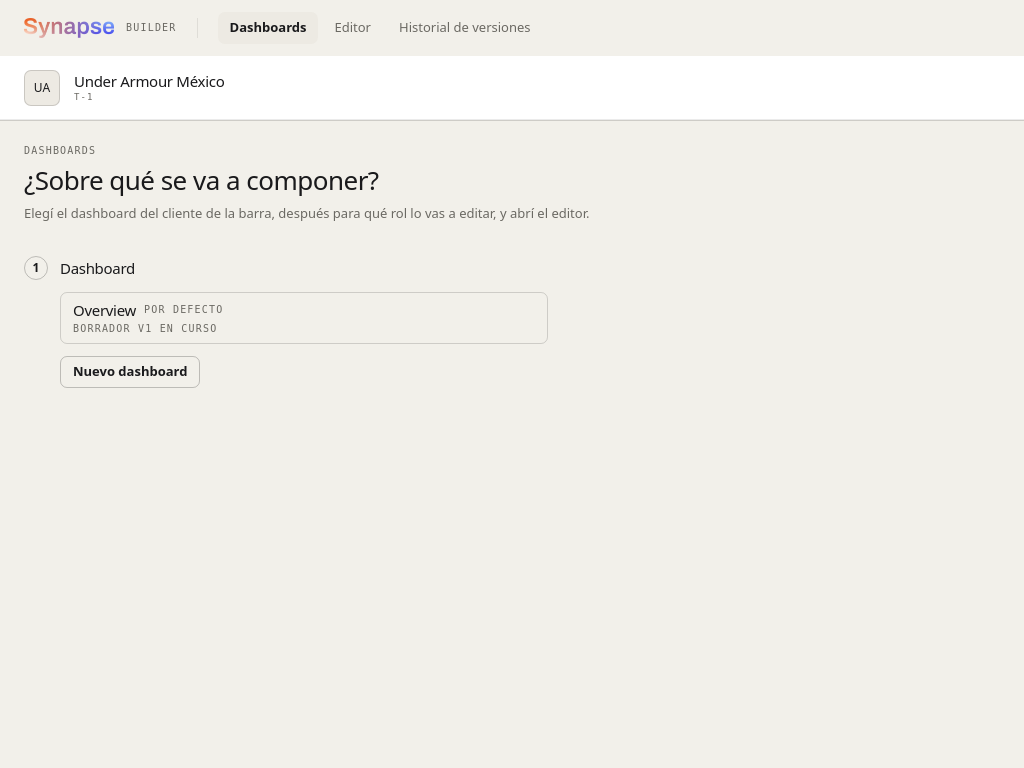
it: el chrome NO es uniforme · corregido contra el `.pen` › el rol elegido en B1 viaja a la cabecera del editor
Click the button "Overview Por defecto Borrador v1 en curso" at x=105, y=310, box [60,292,548,344]
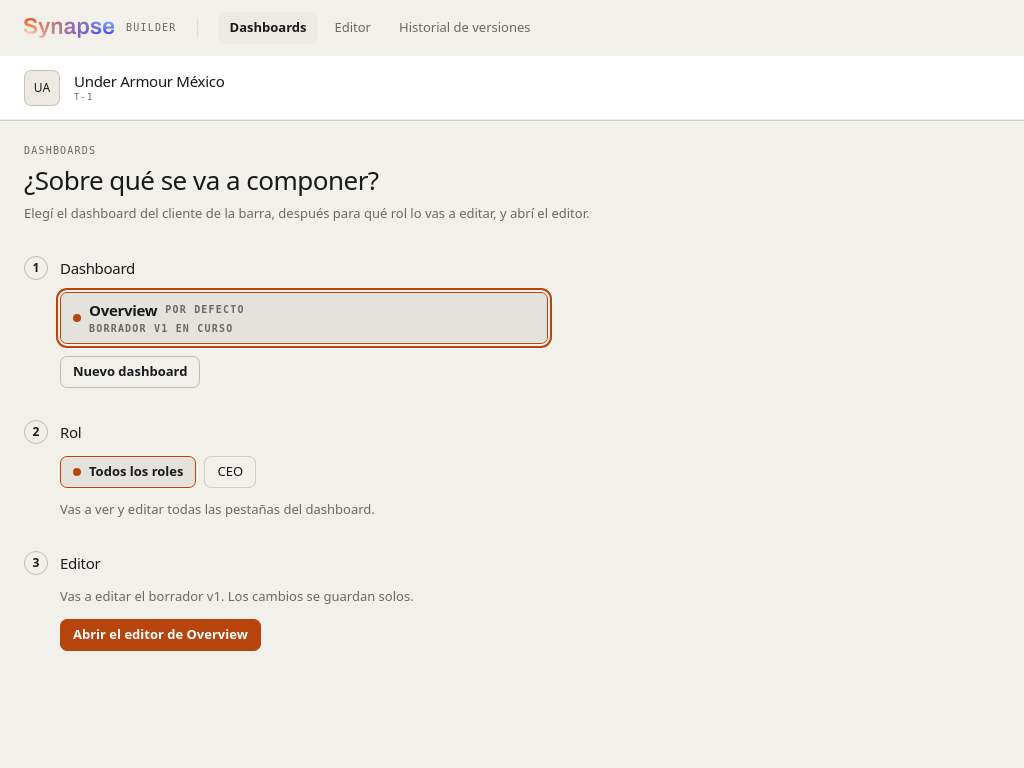
Click the button "CEO" at x=230, y=472, box [204,456,256,488]
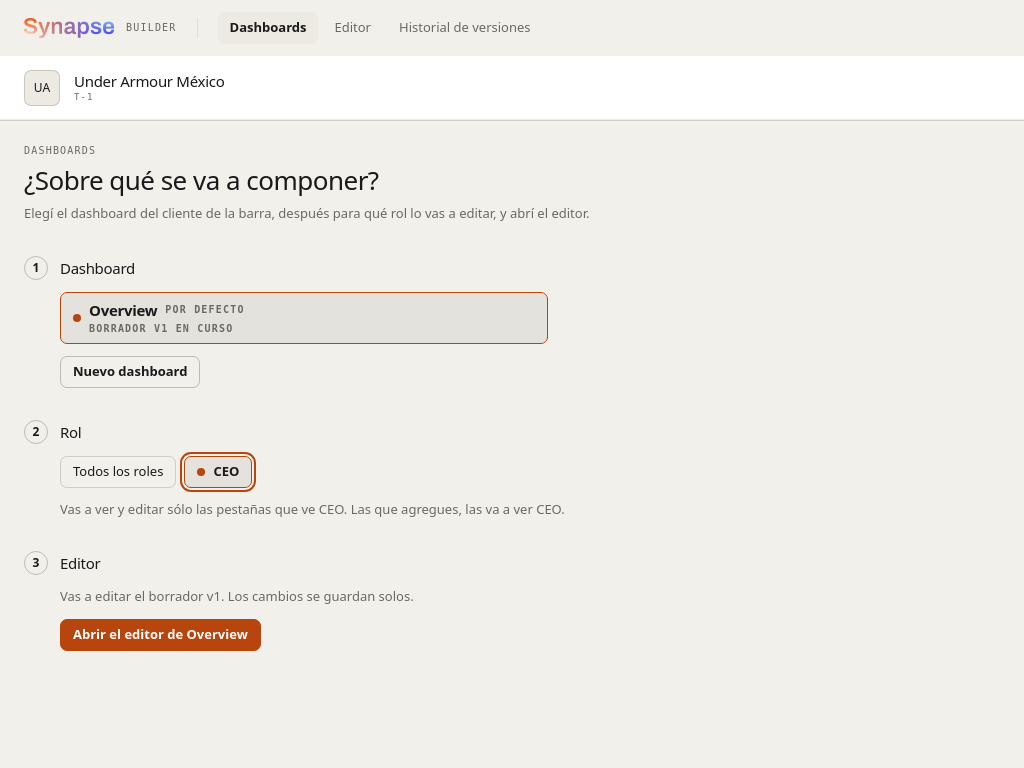
Click the button "Abrir el editor de Overview" at x=160, y=635, box [60,619,261,651]
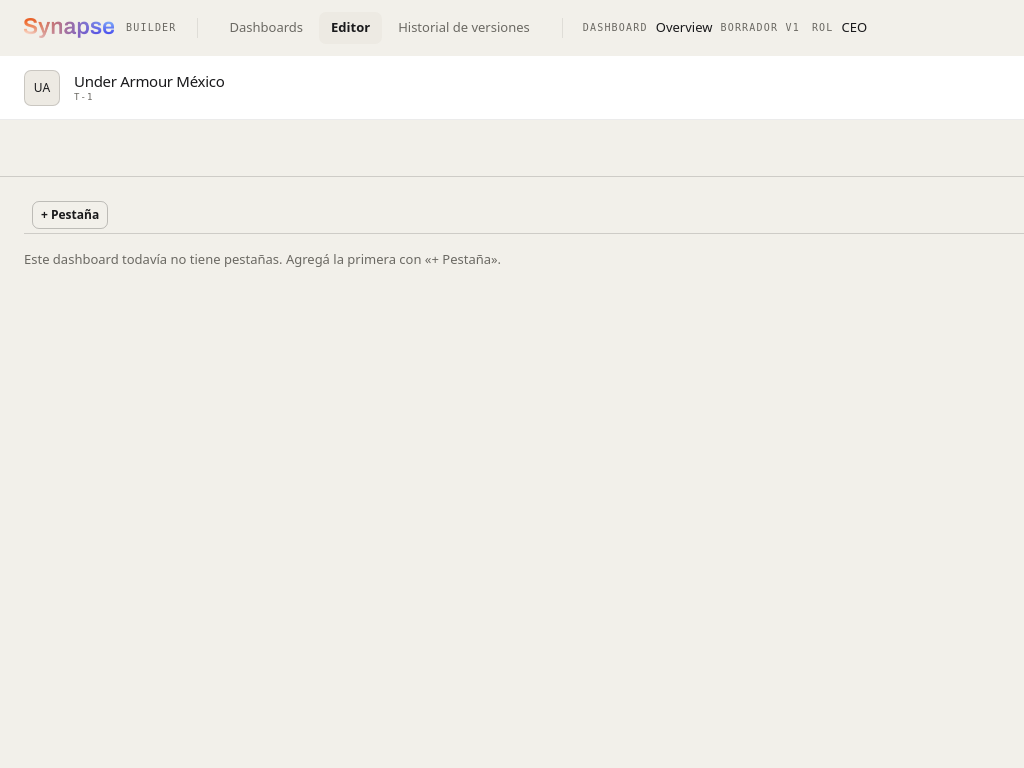
Expected: the text "Borrador v1" is shown, [720,22,800,34]
Expected: the text "CEO" is shown, [842,18,867,38]
Expected: the button "Todos los roles" is gone
